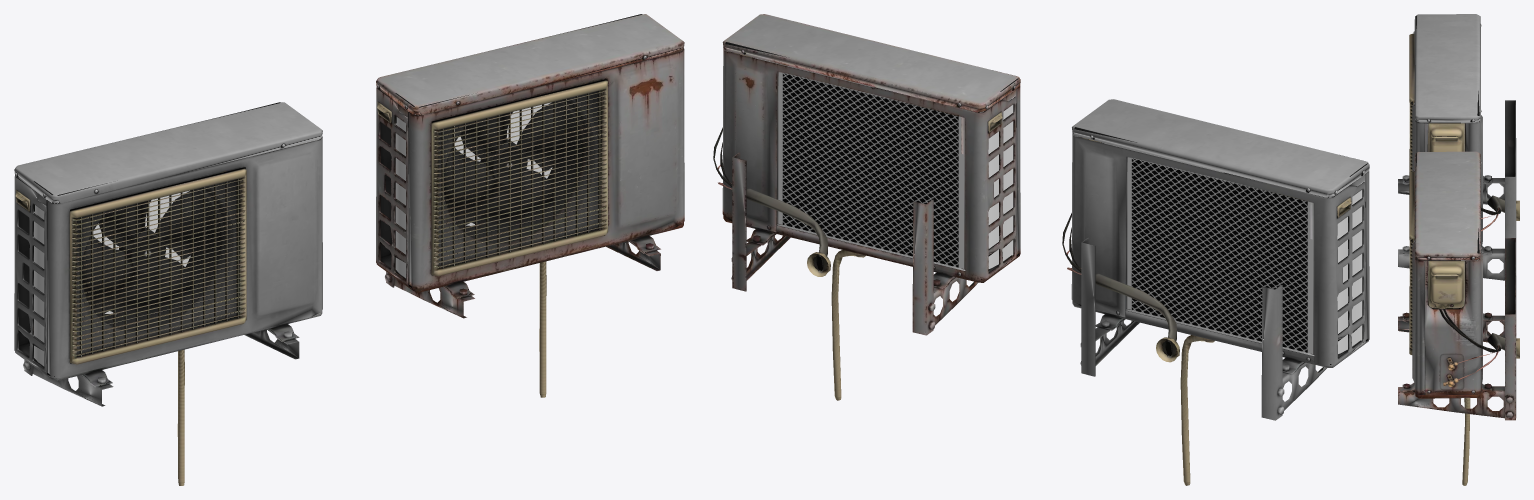
File: exterior_aircon_unit.glb
The picture shows the model from 3 angles, left to right: view 1: azimuth 30°, elevation 25°; view 2: azimuth 150°, elevation 25°; view 3: azimuth 270°, elevation 25°; orthographic projection. The views are drawn at different scales.
Parts seen in each view (by area): view 1: exterior_aircon_unit_rusted, exterior_aircon_unit; view 2: exterior_aircon_unit_rusted, exterior_aircon_unit; view 3: exterior_aircon_unit_rusted, exterior_aircon_unit.
Boxes of the visible parts, left/top/right/bottom form: exterior_aircon_unit_rusted: left=376, top=14, right=684, bottom=397; exterior_aircon_unit: left=14, top=102, right=322, bottom=485; exterior_aircon_unit_rusted: left=713, top=14, right=1020, bottom=400; exterior_aircon_unit: left=1062, top=99, right=1369, bottom=485; exterior_aircon_unit_rusted: left=1398, top=151, right=1519, bottom=485; exterior_aircon_unit: left=1398, top=14, right=1519, bottom=280.
Size of the model in its own units: 1.8 by 0.9279 by 0.3742.
Materials: 4 (4 with a texture image).
